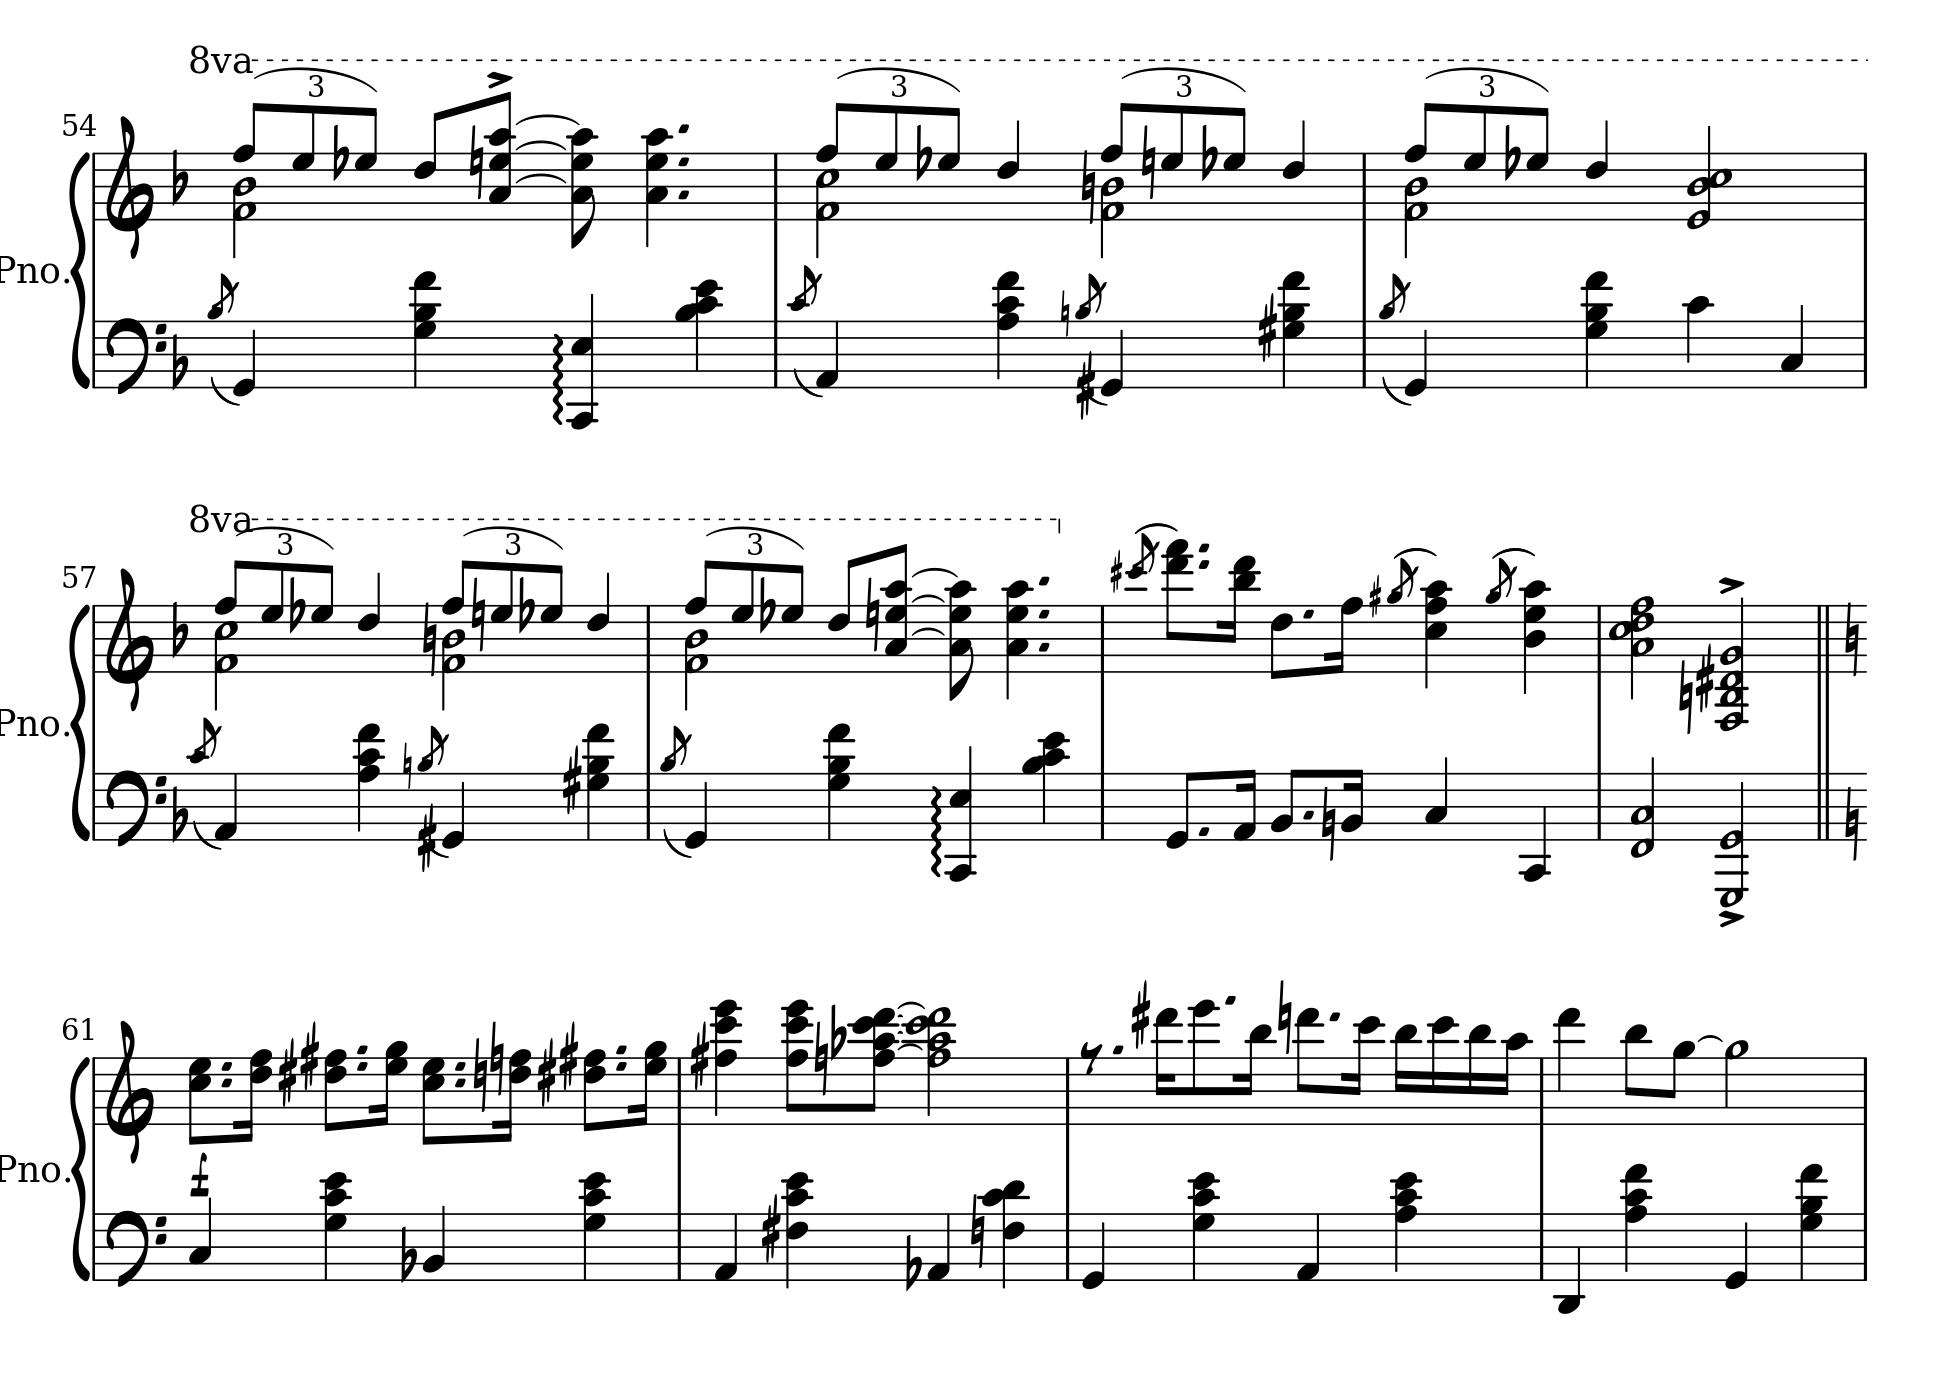1: (79, 1015, 94, 1042)
16_1: (1231, 766, 1258, 843)
16_10: (1500, 1030, 1531, 1126)
16_11: (1236, 1021, 1275, 1126), (1464, 1021, 1494, 1126), (1392, 1021, 1420, 1126)
16_11_13: (1216, 553, 1261, 676)
16_12: (1344, 1015, 1384, 1126), (1429, 1014, 1458, 1126)
16_13: (1152, 1006, 1180, 1126)
16_2: (1341, 766, 1365, 841)
16_6_8: (493, 1045, 534, 1141), (234, 1048, 274, 1144)
16_7_9: (369, 1039, 412, 1128), (628, 1039, 667, 1126)
16_8: (1326, 595, 1362, 675)
2_-1_3: (1629, 756, 1657, 859)
2_-7_0: (1713, 771, 1752, 909)
2_4th: (1608, 592, 1660, 697), (1717, 595, 1749, 735)
2_9: (1723, 1038, 1750, 1126)
3: (1174, 73, 1194, 99), (1477, 73, 1497, 99), (306, 73, 325, 97), (889, 73, 907, 99), (745, 532, 763, 556), (276, 532, 292, 556), (504, 532, 520, 556)
4: (79, 111, 97, 138)
4_-3: (1554, 1210, 1584, 1315)
4_-4: (1521, 769, 1551, 882)
4_-4_5: (945, 745, 981, 883)
4_0: (1080, 1210, 1107, 1290), (684, 769, 709, 852), (1404, 319, 1429, 400), (441, 772, 466, 850), (1101, 318, 1125, 400), (1725, 1210, 1749, 1291), (232, 319, 256, 399)
4_1: (1294, 1210, 1321, 1284), (712, 1212, 739, 1282), (814, 319, 840, 391), (213, 771, 238, 841), (927, 1212, 952, 1282)
4_10: (1683, 294, 1714, 391)
4_13: (1554, 1006, 1584, 1128)
4_2: (421, 1203, 448, 1282)
4_3: (1779, 301, 1806, 388), (1425, 754, 1449, 840), (187, 1195, 211, 1281)
4_4th: (910, 1003, 955, 1125)
4_6: (355, 568, 382, 676), (1584, 117, 1611, 223), (996, 117, 1021, 223), (585, 568, 610, 675), (1281, 118, 1306, 223)
4_th: (675, 276, 721, 390), (1023, 730, 1069, 840), (984, 1177, 1029, 1290), (709, 997, 744, 1126), (1794, 1159, 1830, 1281), (778, 1168, 814, 1290), (351, 718, 385, 841), (990, 267, 1024, 387), (1278, 265, 1311, 390), (822, 718, 855, 841), (1581, 267, 1614, 388), (1620, 1159, 1653, 1278), (409, 265, 441, 388), (582, 718, 613, 841), (999, 574, 1032, 691), (1188, 1167, 1221, 1282), (639, 123, 670, 240), (1390, 1165, 1422, 1281), (319, 1167, 351, 1281), (579, 1167, 610, 1281), (1420, 577, 1453, 685)
5: (61, 109, 78, 136), (61, 562, 78, 589)
6: (61, 1014, 79, 1041)
7: (79, 562, 96, 589)
8_0: (1164, 769, 1200, 850)
8_11: (1623, 1021, 1650, 1126)
8_13: (1293, 1006, 1324, 1126)
8_13_15: (1161, 537, 1197, 673)
8_14: (1189, 1000, 1219, 1126)
8_2: (1269, 766, 1302, 841)
8_4th: (856, 1005, 901, 1125)
8_5_7: (187, 1054, 216, 1146), (420, 1054, 447, 1147)
8_6: (412, 106, 448, 223), (826, 556, 859, 676), (1269, 601, 1294, 682)
8_6_8: (582, 1048, 610, 1132), (322, 1048, 349, 1132)
8_7: (873, 103, 900, 223), (1461, 103, 1488, 223), (289, 103, 316, 222), (352, 105, 379, 220), (538, 562, 565, 673), (936, 106, 961, 222), (1525, 106, 1551, 222), (1222, 106, 1248, 220), (1161, 103, 1185, 223), (729, 561, 754, 673), (780, 562, 805, 673), (259, 562, 283, 673), (310, 562, 334, 673), (489, 562, 513, 673)
8_9: (1665, 1039, 1696, 1126)
8_th: (943, 576, 979, 700), (781, 999, 816, 1125), (567, 121, 598, 250), (487, 91, 514, 223)
Accent_above: (484, 67, 511, 88), (1717, 573, 1746, 592), (1716, 909, 1747, 925)
Acciaccature: (786, 265, 823, 387), (1384, 555, 1420, 678), (1482, 553, 1518, 675), (187, 715, 220, 844), (205, 271, 240, 394), (1377, 274, 1413, 387), (1075, 268, 1105, 397), (415, 724, 447, 846), (658, 724, 691, 838)
Arpeggio: (928, 781, 943, 880), (550, 331, 565, 427)
Brace: (70, 148, 91, 387), (70, 601, 91, 838), (70, 1051, 91, 1285)
Double_barline: (1812, 604, 1836, 672), (1812, 772, 1836, 838)
Fclef: (103, 315, 166, 397), (105, 1207, 168, 1290), (105, 766, 166, 850)
Flat: (168, 145, 190, 207), (168, 598, 190, 660), (169, 331, 190, 391), (169, 784, 190, 844), (903, 1233, 922, 1294), (330, 121, 349, 181), (397, 1224, 417, 1284), (913, 121, 931, 181), (1200, 121, 1218, 181), (1503, 121, 1521, 181), (517, 573, 535, 633), (829, 1000, 847, 1060), (757, 574, 775, 633), (286, 574, 304, 631)
Gclef: (103, 112, 154, 259), (103, 1017, 154, 1164), (103, 565, 154, 711)
Natural: (1842, 780, 1863, 861), (1842, 598, 1863, 678), (466, 121, 484, 202), (1140, 121, 1158, 202), (487, 1020, 505, 1101), (1080, 147, 1098, 226), (862, 574, 880, 654), (1677, 655, 1695, 733), (969, 1194, 987, 1272), (469, 576, 487, 652), (1320, 784, 1338, 861), (471, 1033, 487, 1114), (421, 598, 438, 678), (1276, 978, 1293, 1056), (813, 1020, 829, 1096), (1059, 286, 1071, 339), (400, 739, 412, 790)
Pno: (1, 703, 60, 741), (1, 1150, 61, 1186), (1, 250, 58, 288)
Rests8: (1080, 1039, 1104, 1075)
Sharp: (561, 745, 583, 817), (535, 1036, 558, 1108), (1074, 349, 1096, 420), (276, 1038, 298, 1108), (1129, 979, 1152, 1050), (558, 1018, 579, 1093), (415, 802, 438, 871), (759, 1195, 781, 1264), (298, 1020, 319, 1093), (1257, 292, 1278, 363), (688, 1024, 709, 1092), (1695, 643, 1714, 711), (1108, 547, 1123, 592), (1368, 574, 1383, 618)
Single_barline: (766, 319, 784, 387), (1533, 1056, 1551, 1123), (1855, 1056, 1873, 1123), (1059, 1213, 1077, 1279), (1855, 1212, 1872, 1279), (1591, 604, 1608, 670), (1059, 1057, 1075, 1123), (670, 1213, 687, 1279), (1534, 1213, 1551, 1279), (766, 153, 783, 217), (1356, 154, 1372, 219), (1356, 321, 1372, 385), (672, 1057, 687, 1125), (640, 772, 655, 838), (1095, 772, 1110, 838), (1593, 772, 1608, 838), (1857, 153, 1872, 217), (1857, 321, 1872, 385), (640, 606, 655, 670), (1095, 606, 1110, 670), (88, 151, 102, 220), (88, 604, 102, 672), (88, 321, 102, 385), (88, 1057, 100, 1123), (88, 774, 100, 838), (88, 1213, 100, 1278)
Slur: (258, 58, 364, 85), (838, 60, 945, 87), (1428, 60, 1533, 87), (460, 522, 565, 547), (235, 523, 340, 549), (1129, 61, 1233, 87), (703, 523, 807, 547), (1378, 373, 1414, 405), (208, 375, 243, 406), (660, 826, 694, 858), (790, 366, 823, 397), (190, 819, 223, 850), (514, 112, 580, 126), (514, 138, 568, 151), (514, 172, 568, 186), (1392, 544, 1440, 559), (1491, 544, 1537, 559), (1134, 520, 1179, 534), (910, 565, 958, 577), (910, 625, 945, 637), (910, 592, 946, 603), (895, 1000, 927, 1012), (895, 1042, 924, 1053), (1696, 1033, 1723, 1042)
dot: (1035, 571, 1053, 589), (675, 120, 693, 136), (1221, 991, 1239, 1008), (1194, 555, 1213, 570), (675, 153, 691, 169), (1195, 538, 1212, 555), (217, 1057, 235, 1072), (676, 186, 691, 202), (1036, 606, 1053, 621), (1036, 639, 1053, 654), (1327, 1008, 1342, 1024), (354, 1041, 370, 1056), (613, 1041, 628, 1057), (354, 1057, 370, 1072), (217, 1075, 235, 1089), (1302, 604, 1317, 619), (613, 1057, 628, 1072), (451, 1059, 468, 1072), (1110, 1042, 1128, 1054), (1197, 823, 1212, 837), (451, 1075, 466, 1089), (1302, 807, 1315, 820)
f: (187, 1150, 211, 1197)
